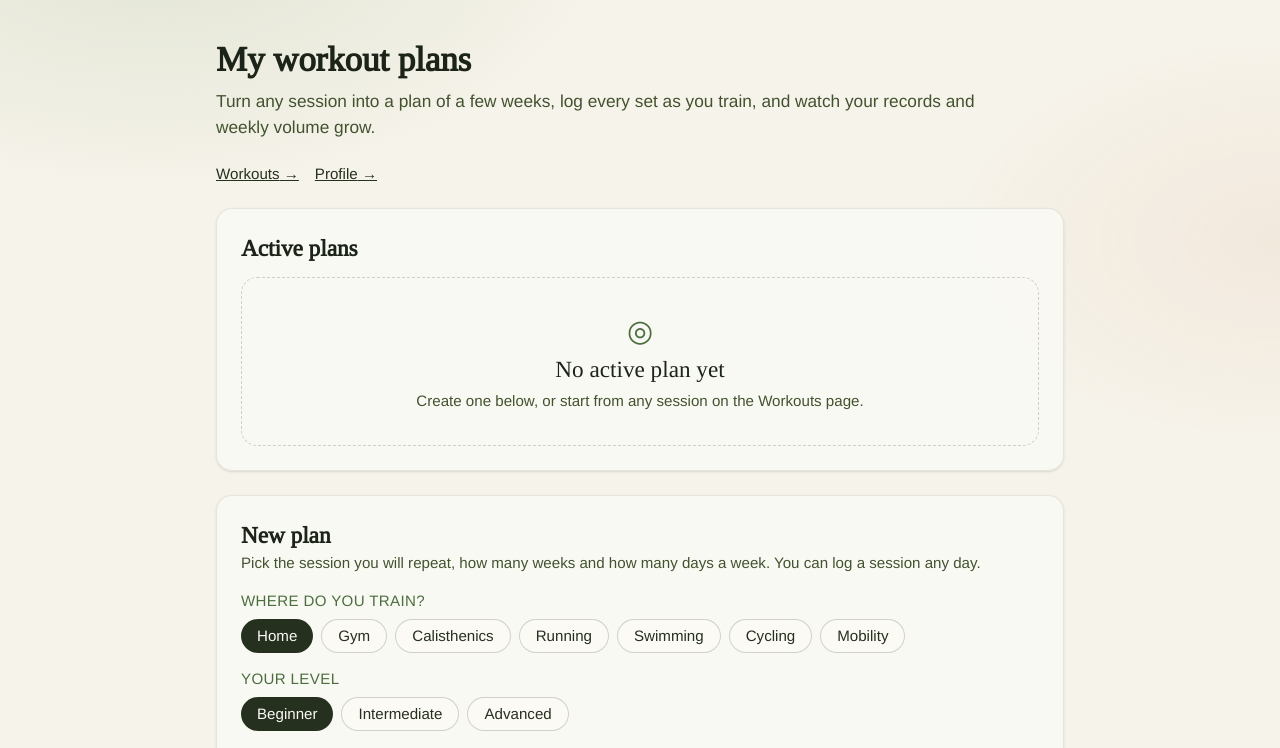
Scenario: <PlansPage> — plan builder › follows the chips: the default cell is home and the name tracks the session until typed
The image size is (1280, 748).
Click the radio button labelled "Gym" at (354, 636), box x1=321 y1=618 x2=387 y2=652
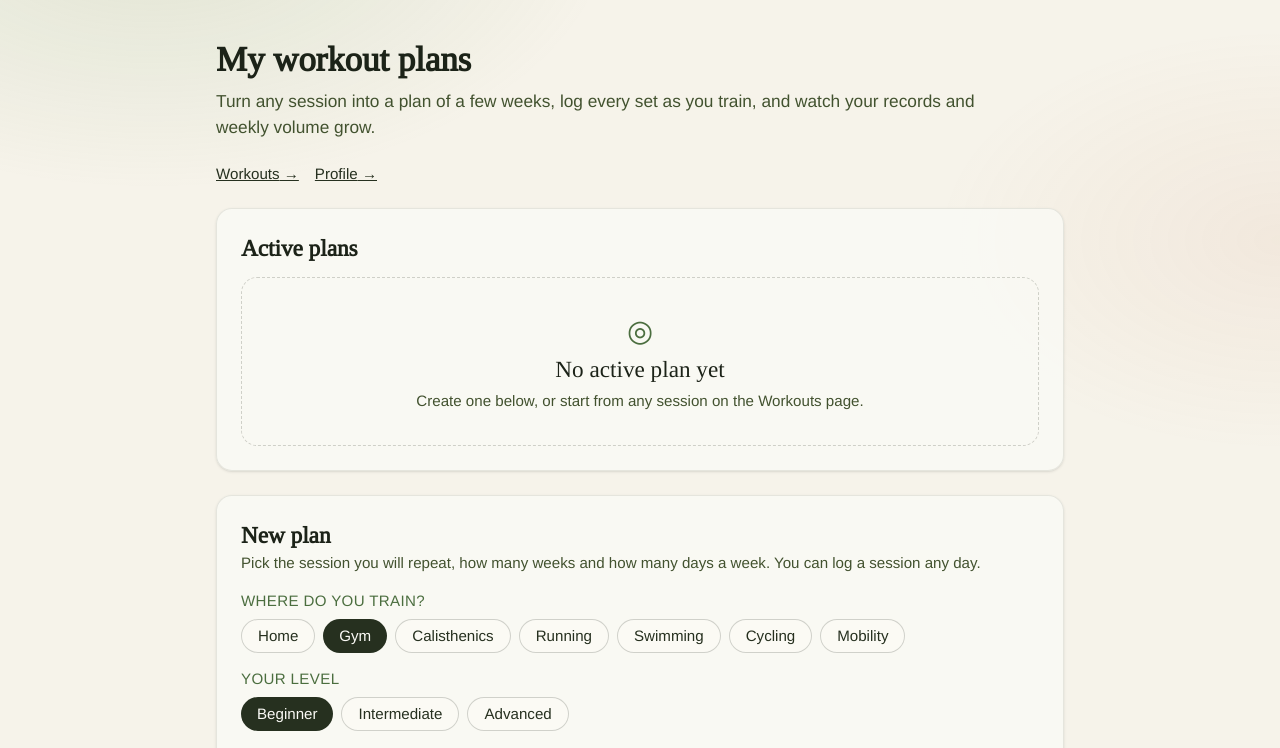
Click the radio button labelled "Swimming" at (669, 636), box x1=617 y1=618 x2=721 y2=652
(page scrolled)
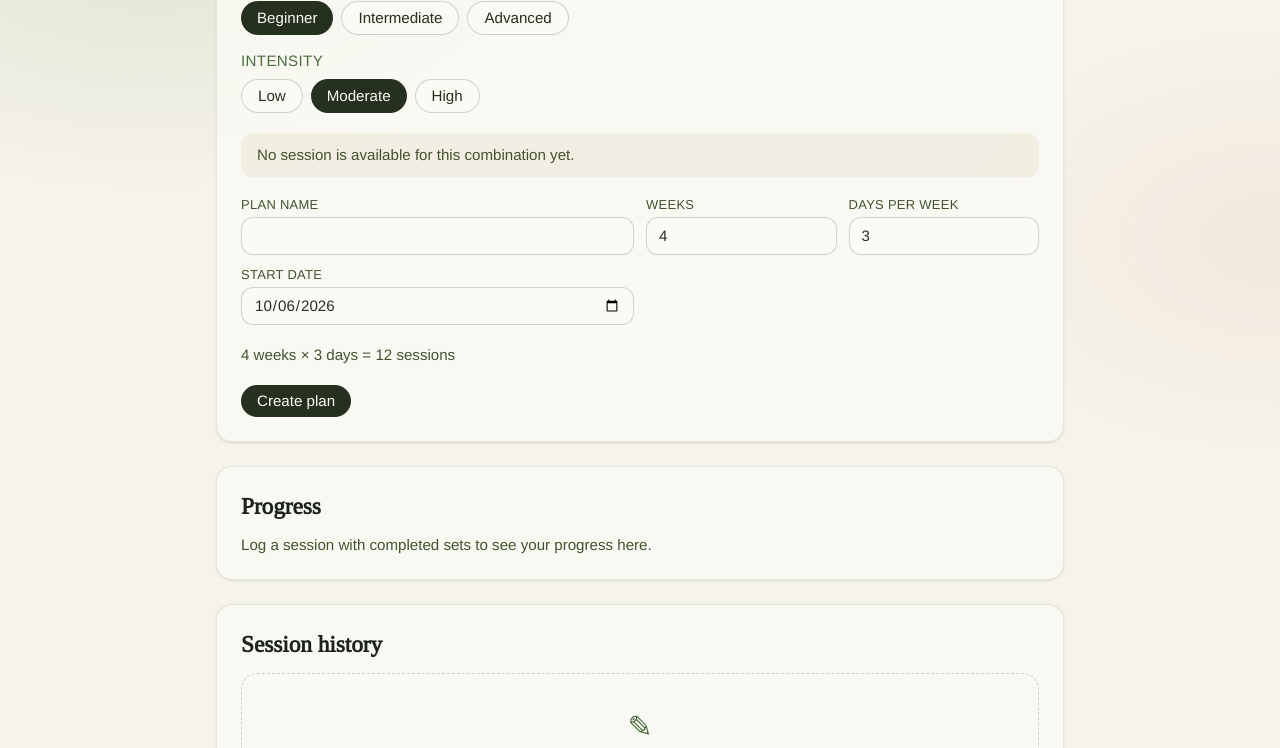
Check: the text "No session is available for this combination yet." is shown, box x1=257 y1=146 x2=574 y2=162
Click the button "Create plan" at (296, 400), box x1=241 y1=384 x2=351 y2=416
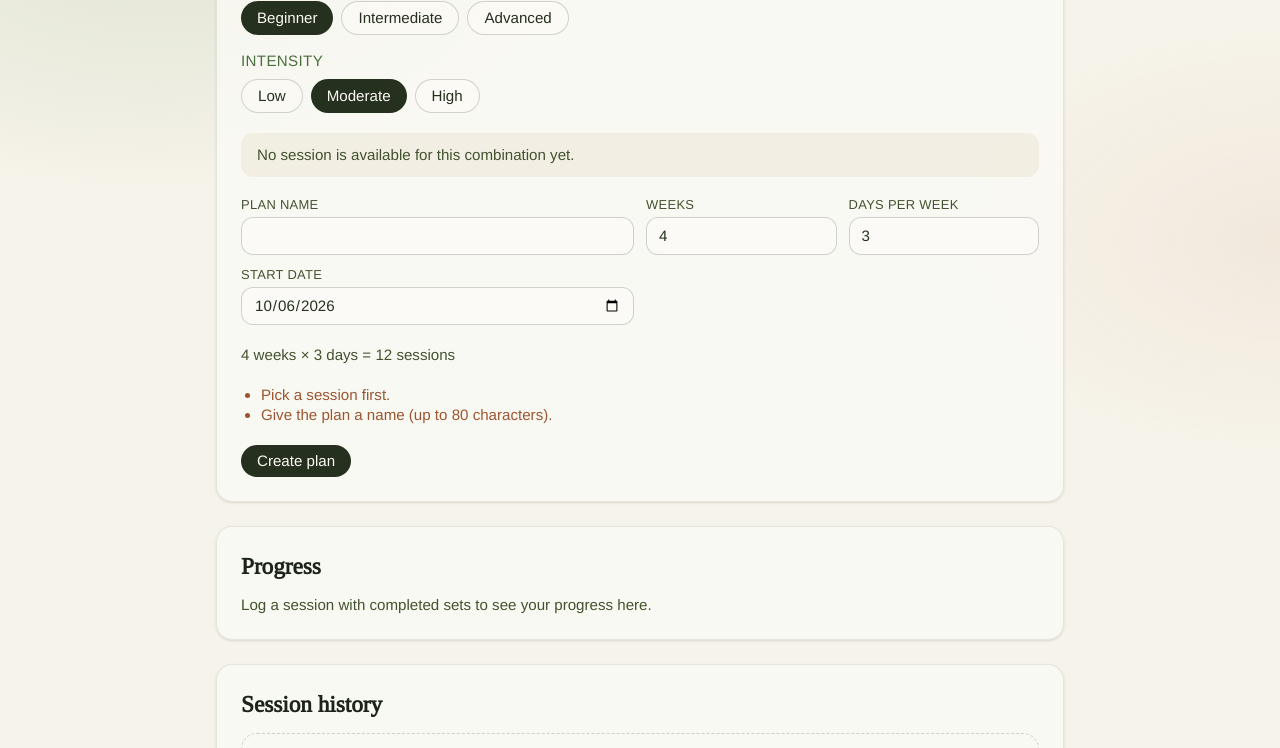
Check: the message shows "Pick a session first.", box x1=261 y1=386 x2=390 y2=402
